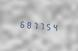eight: (24, 18, 30, 30)
five: (46, 20, 52, 32)
four: (53, 21, 59, 32)
seven: (32, 19, 38, 30), (39, 20, 45, 31)
six: (17, 18, 23, 29)
